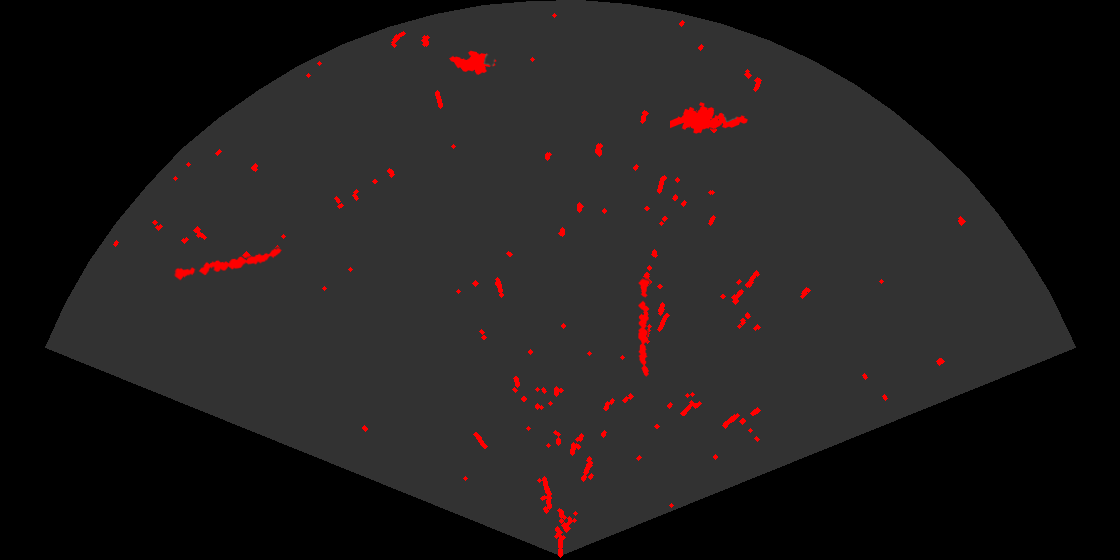AUV: (448, 49, 498, 76)
chain: (172, 246, 283, 282), (637, 277, 651, 378)
frogman: (670, 101, 749, 135)
